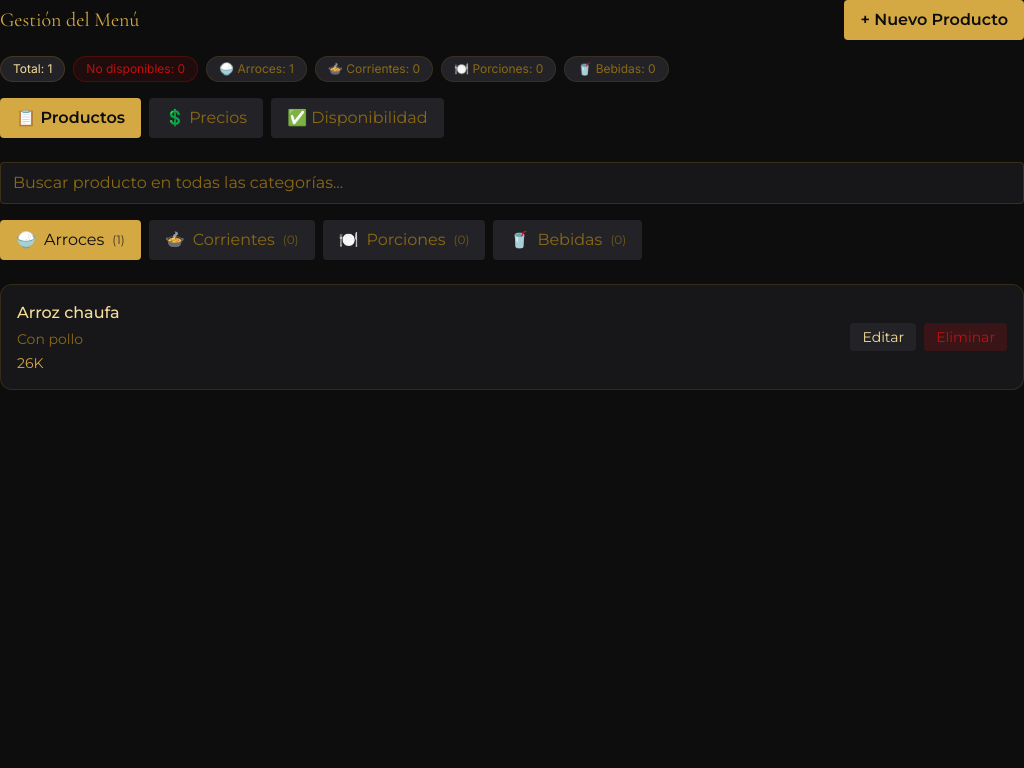
Test: cierra el modal con la equis y con Escape
The width and height of the screenshot is (1024, 768).
Click the button "+ Nuevo Producto" at (934, 20), box [844,0,1023,40]
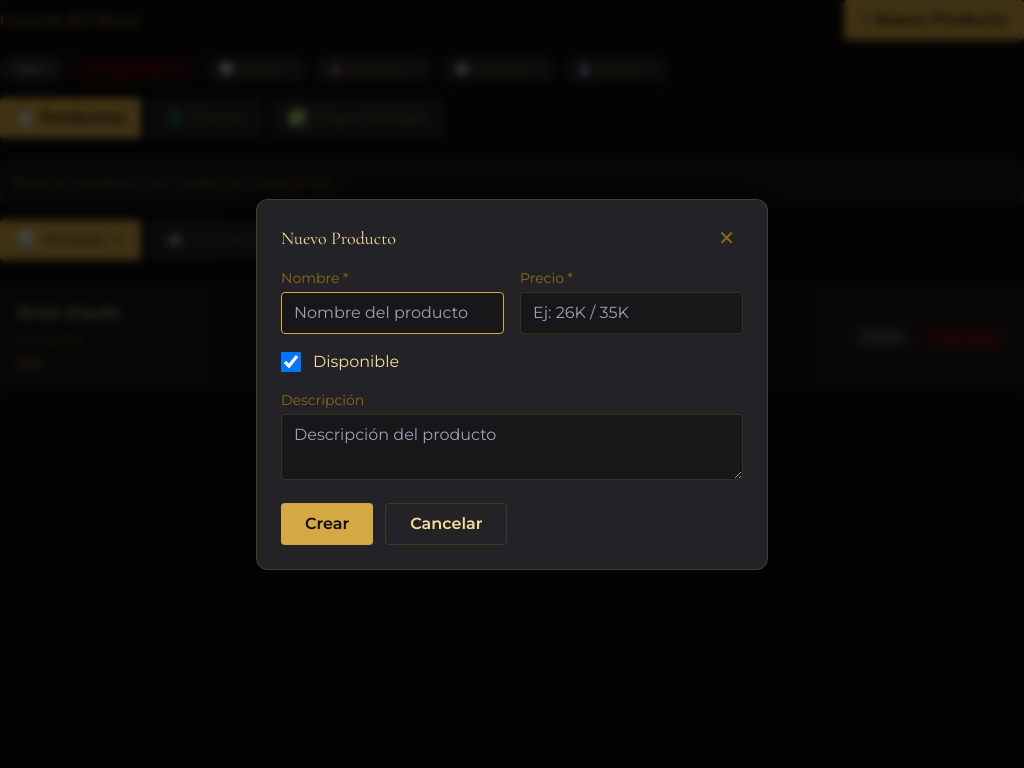
Click the button named "Cerrar" at (727, 238), box [710,224,743,252]
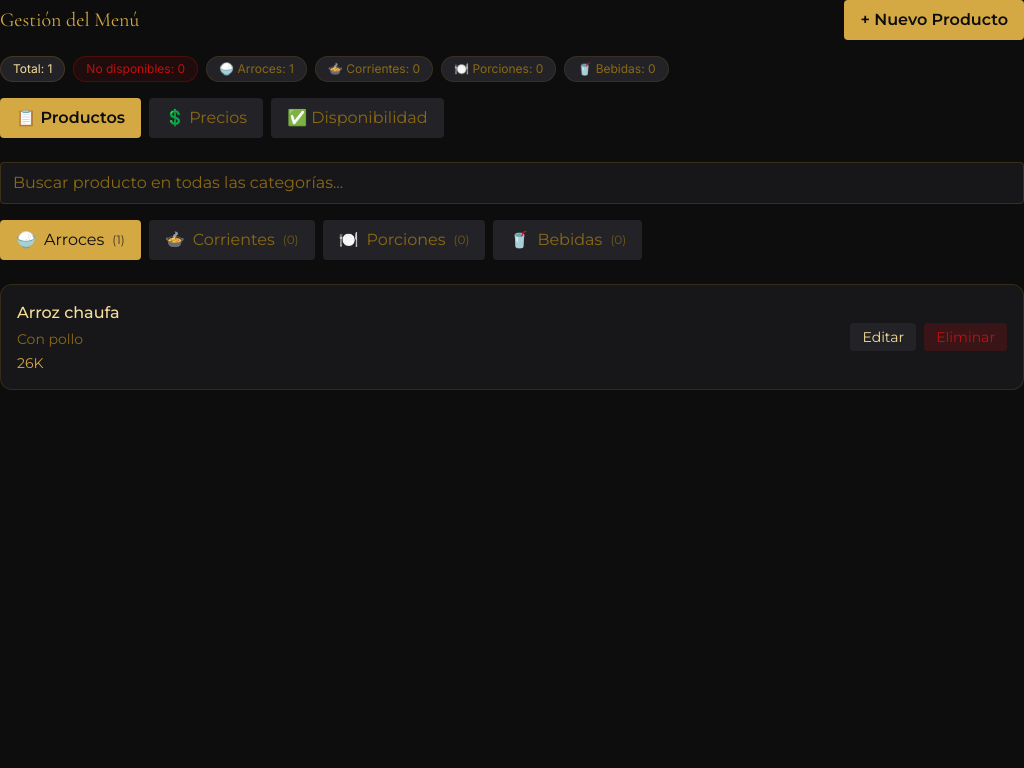
Result: the dialog is gone
Click the button "+ Nuevo Producto" at (934, 20), box [844,0,1023,40]
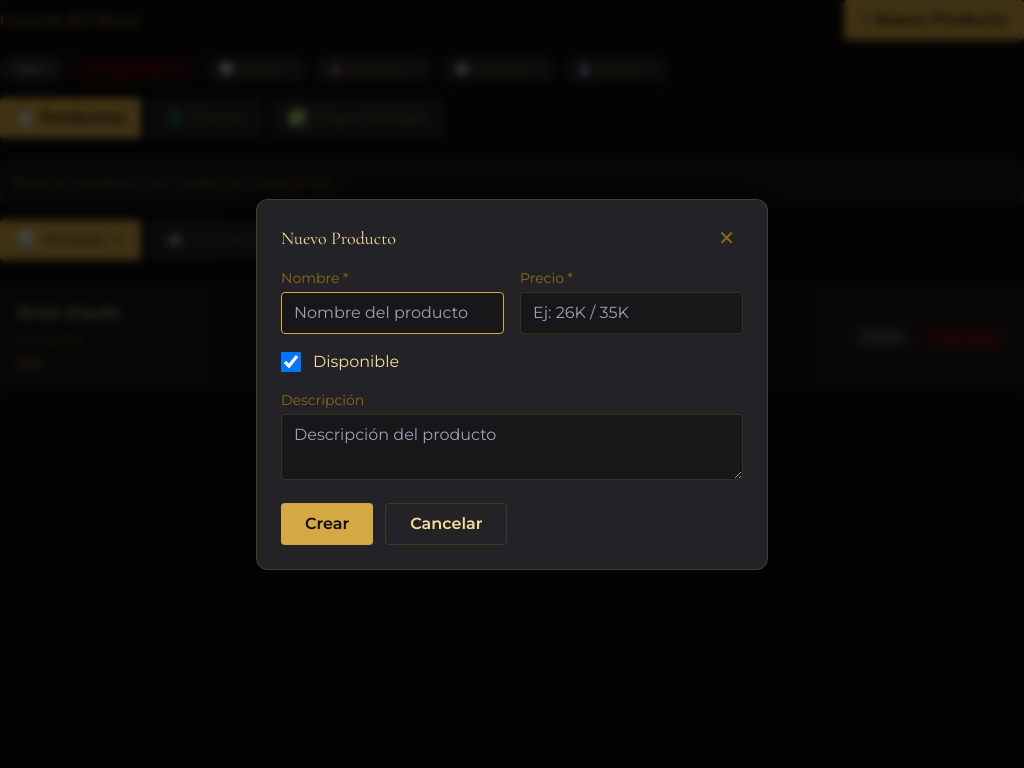
Press Escape
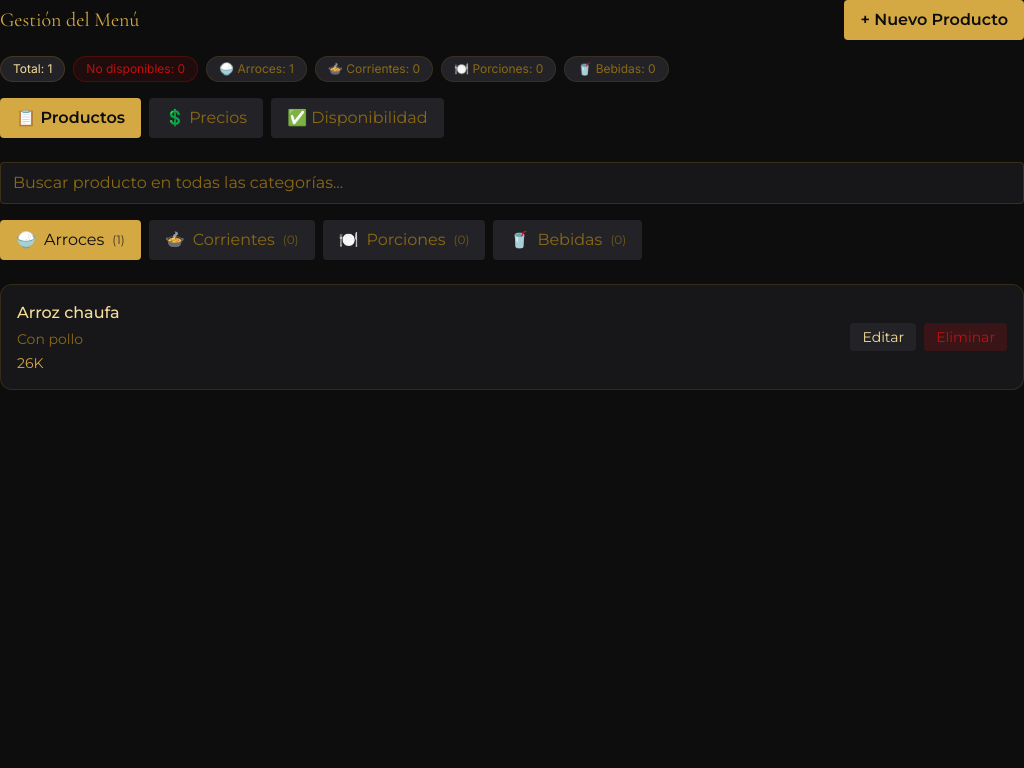
Result: the dialog is gone
